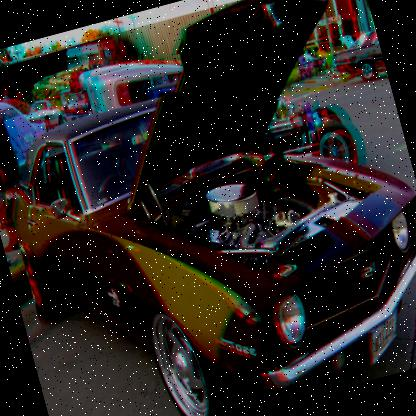Car: (0, 0, 415, 415), (252, 83, 357, 180), (86, 53, 189, 114), (0, 88, 56, 200), (326, 32, 388, 92), (19, 92, 69, 139), (64, 90, 92, 120)
